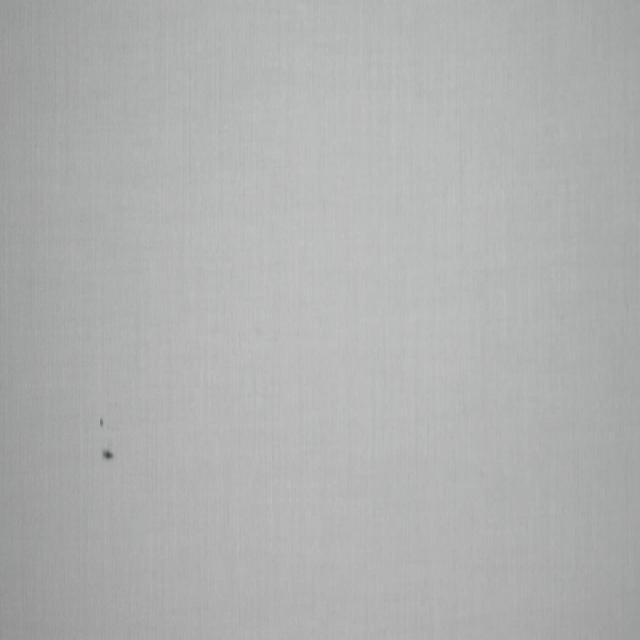dirty: (101, 446, 114, 460), (99, 417, 105, 429)
